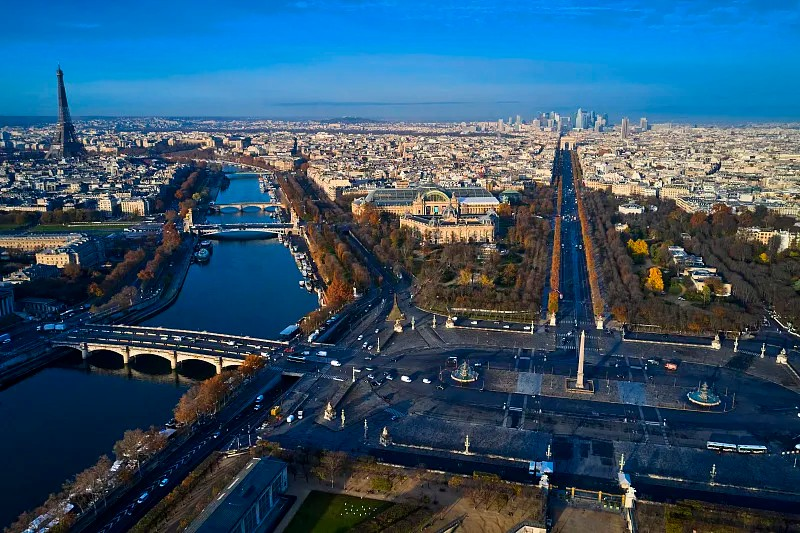Eiffel: (44, 62, 88, 162)
